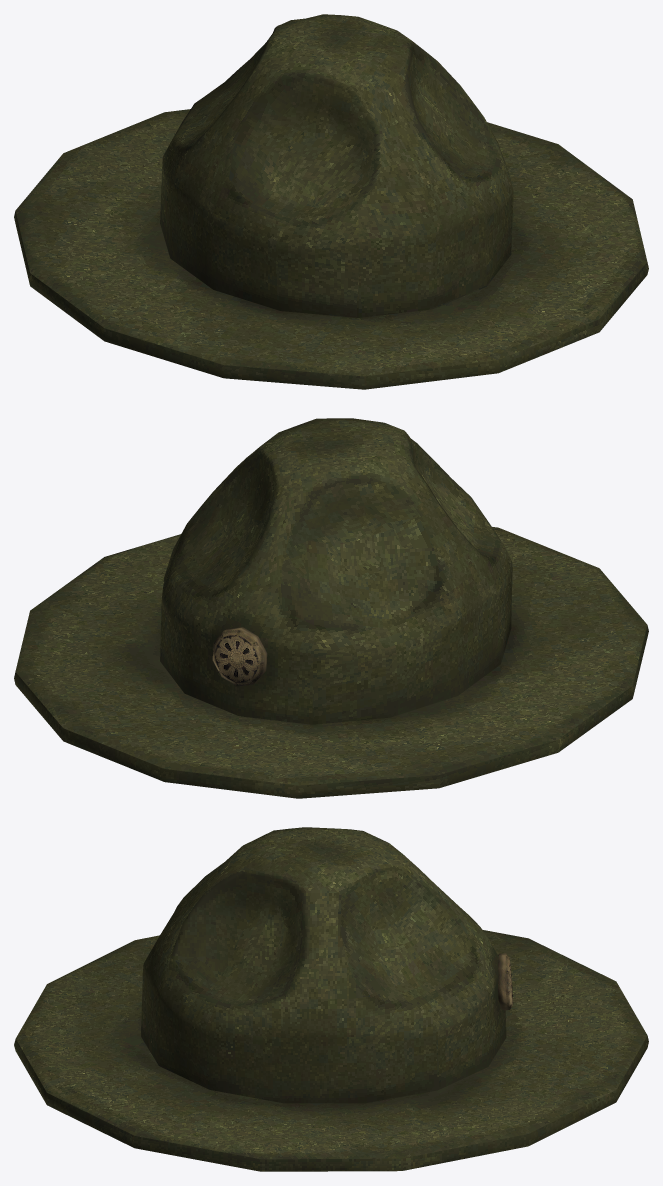
The model's file is drill_sgt_hat.glb.
The picture shows the model from 3 angles, top to bottom: view 1: azimuth 30°, elevation 25°; view 2: azimuth 150°, elevation 25°; view 3: azimuth 270°, elevation 25°; orthographic projection. The views are drawn at different scales.
Visible parts, largest first — view 1: Cylinder; view 2: Cylinder; view 3: Cylinder.
Part boxes in pixels (<box>): Cylinder: <box>14,14,648,389</box>; Cylinder: <box>14,418,648,798</box>; Cylinder: <box>14,827,648,1171</box>.
Bounding box in the file's own units: 0.9009 × 0.3526 × 0.9868.
1 material, 1 textured.
